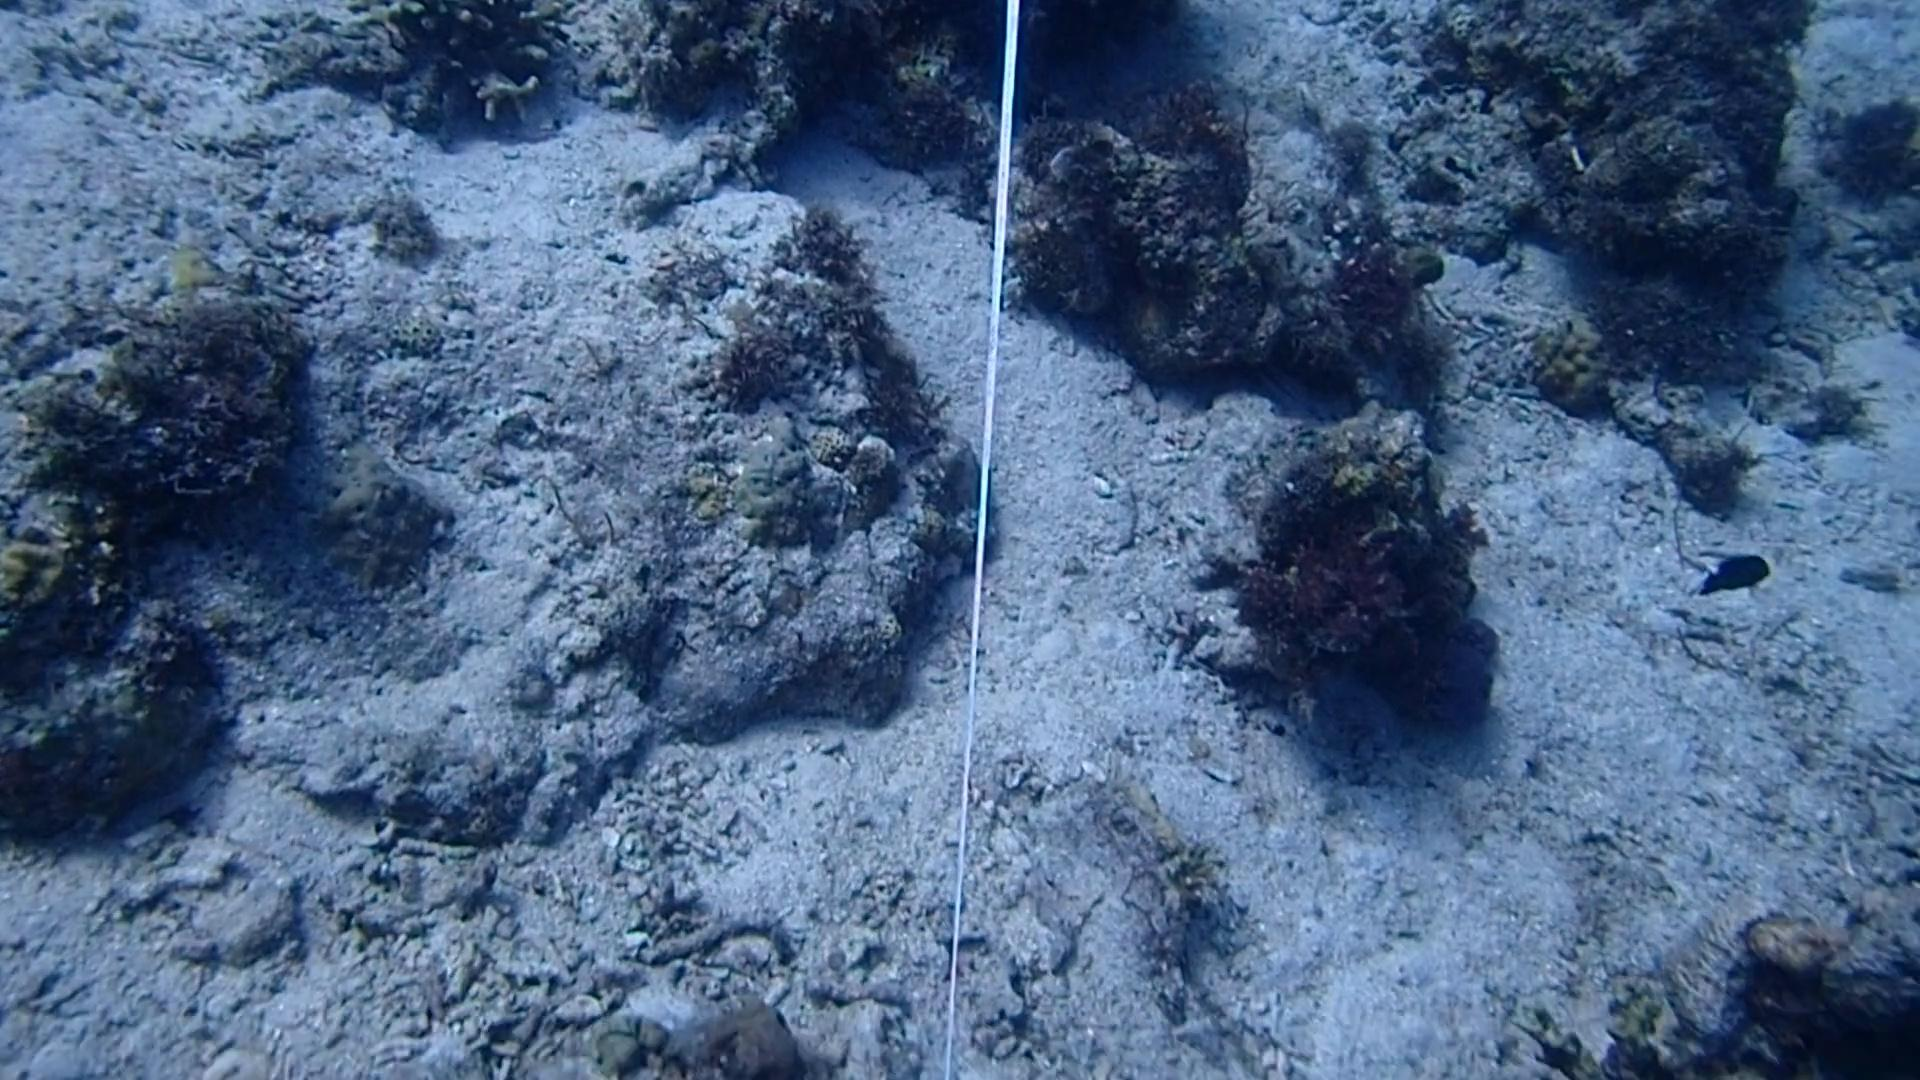Dark Fish: (1688, 538, 1784, 611)
